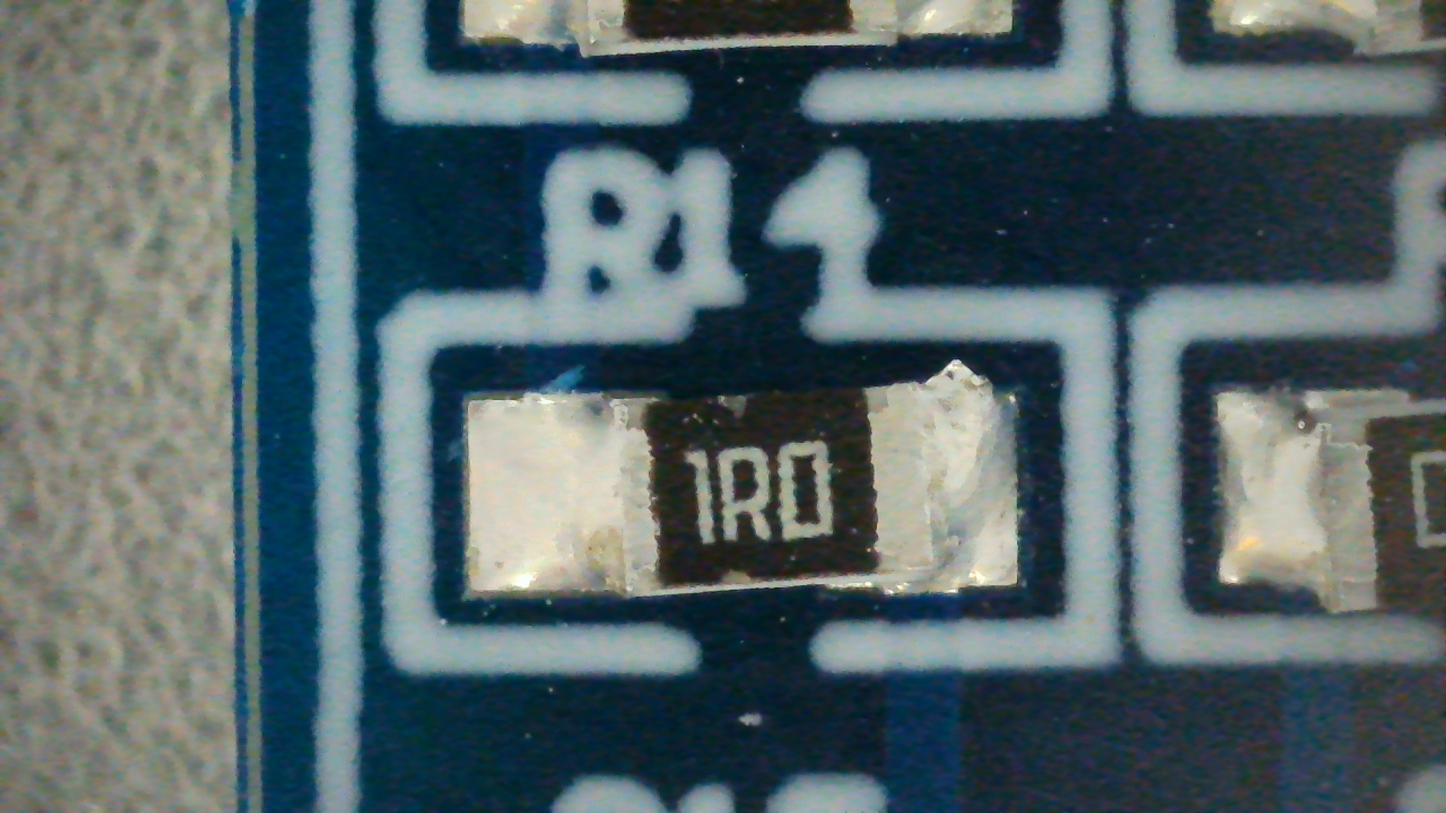OK: (467, 361, 1015, 597)
